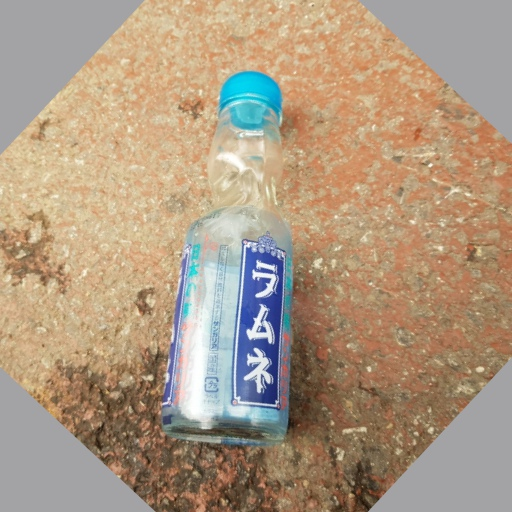Glass_4: (159, 68, 301, 457)
